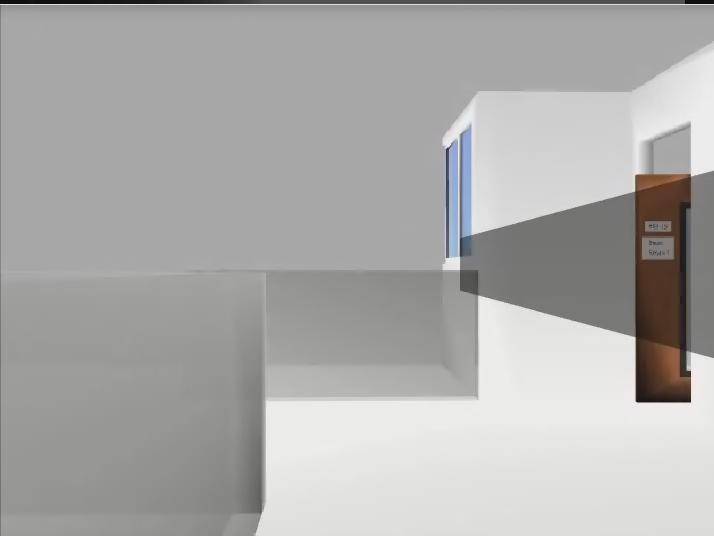door: (636, 174, 691, 404)
